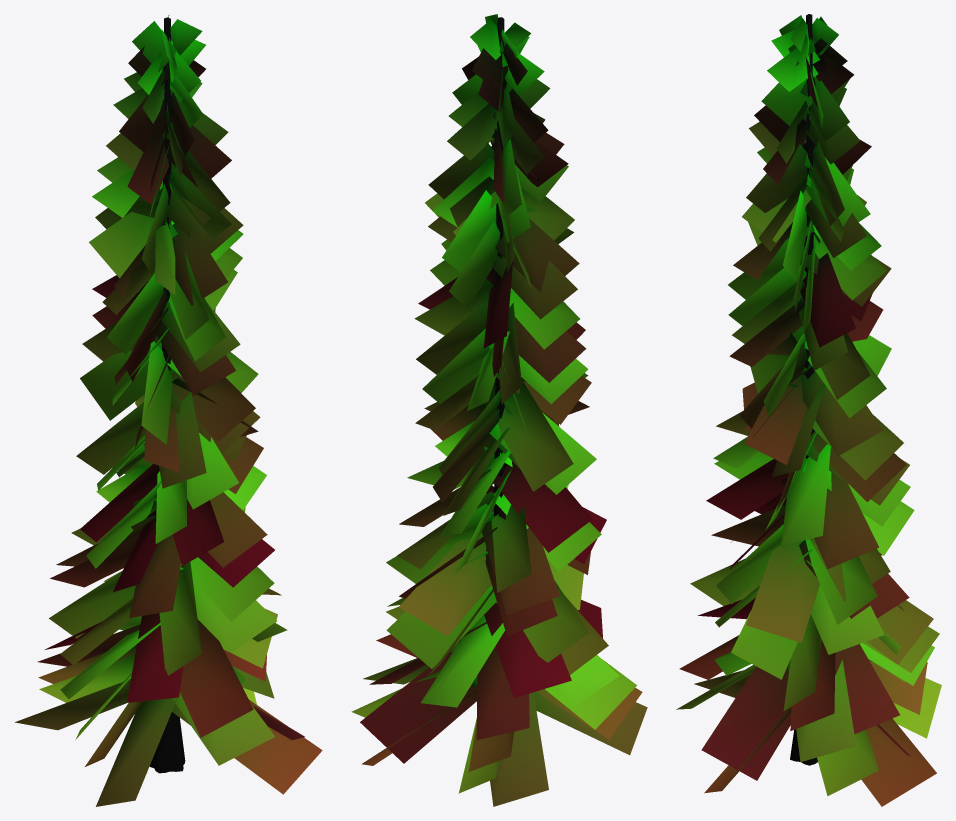
Rendered from M_Pine_2_10.fbx.
3 views of the same model, side by side, from view 1: azimuth 30°, elevation 25°; view 2: azimuth 150°, elevation 25°; view 3: azimuth 270°, elevation 25° (orthographic).
Visible parts, largest first — view 1: Tree_10; view 2: Tree_10; view 3: Tree_10.
Boxes of the visible parts, <box> form: Tree_10: <box>15,15,322,806</box>; Tree_10: <box>351,14,647,806</box>; Tree_10: <box>676,14,941,806</box>.
Bounding box in the file's own units: 1024 × 3219 × 1036.
